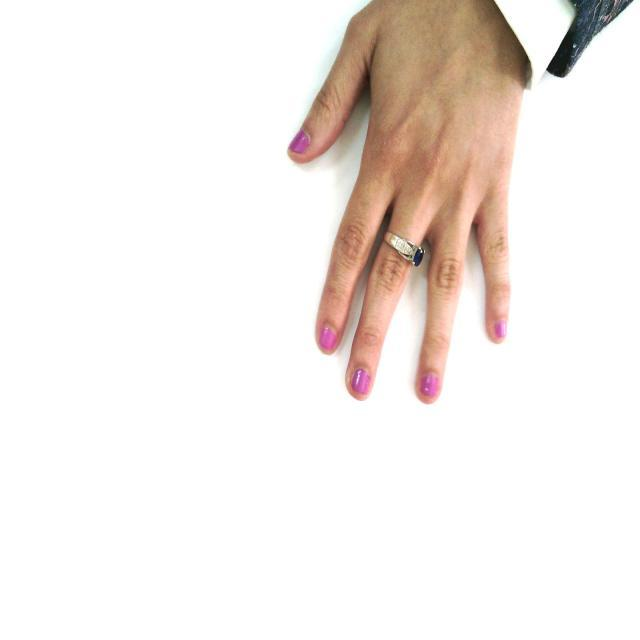Fingernail: (421, 373, 438, 398), (290, 131, 309, 151), (321, 327, 336, 352), (353, 370, 369, 393), (495, 320, 506, 340)
